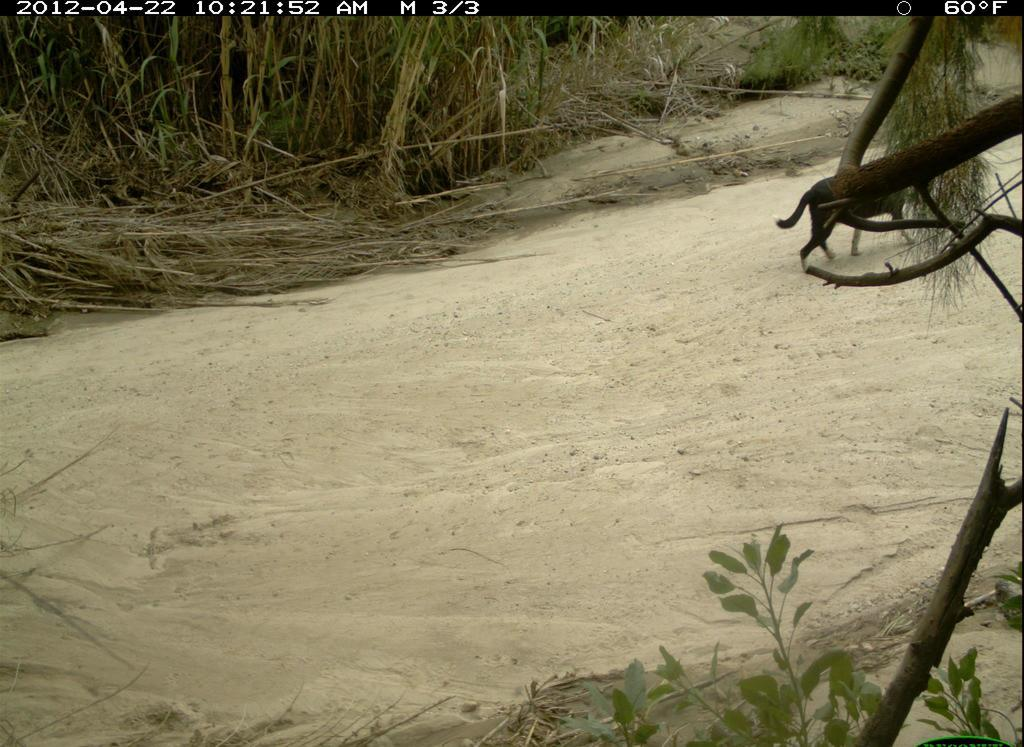dog: (766, 162, 941, 285)
